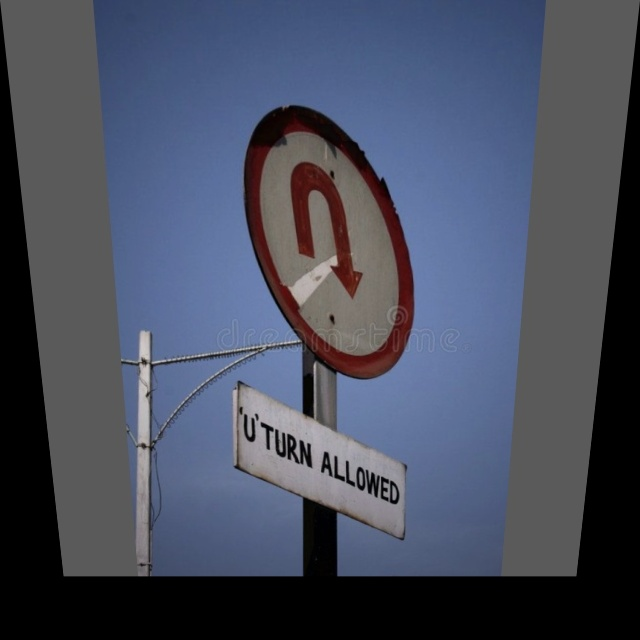U_Turn_Ahead: (244, 90, 443, 380)
